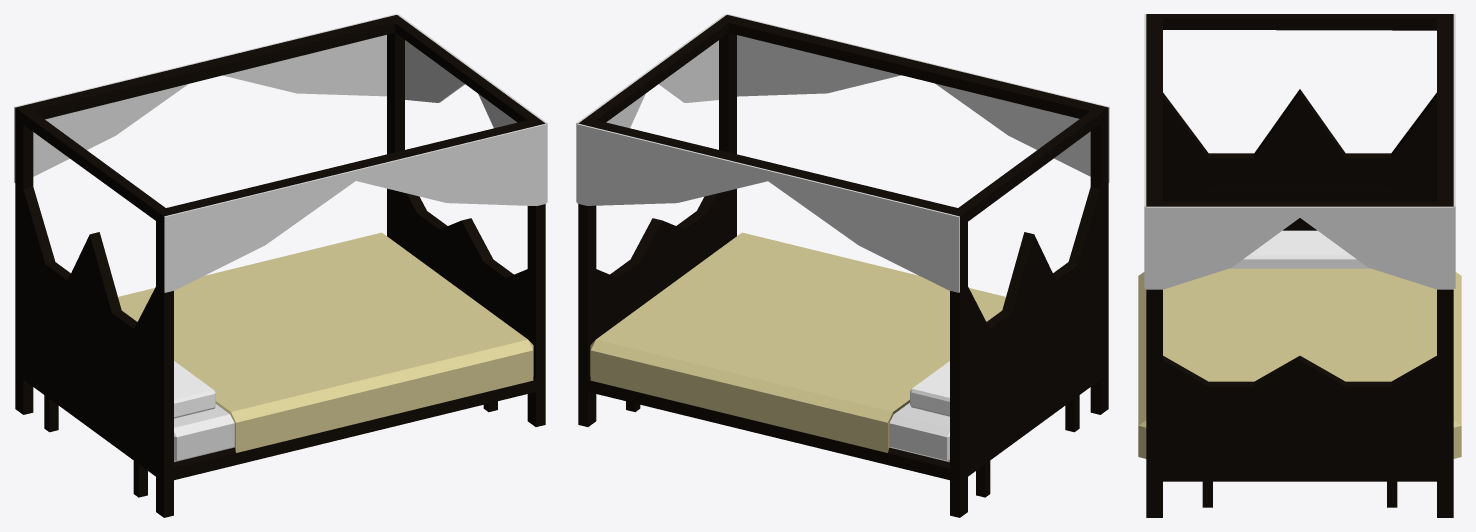
The model's file is Kings_Bed.fbx.
3 renders of one model, left to right at view 1: azimuth 30°, elevation 25°; view 2: azimuth 150°, elevation 25°; view 3: azimuth 270°, elevation 25°, orthographic. The views are drawn at different scales.
Visible parts, largest first — view 1: Frame.001, Matress.001, Matress, Pillow.001, Frame; view 2: Frame.001, Matress.001, Pillow.002, Frame, Matress; view 3: Frame.001, Matress.001, Frame, Pillow, Pillow.002.
Part boxes in pixels (left/top/right/bottom): Frame.001: left=14, top=14, right=547, bottom=517; Matress.001: left=118, top=232, right=533, bottom=462; Matress: left=134, top=252, right=487, bottom=389; Pillow.001: left=174, top=366, right=215, bottom=418; Frame: left=44, top=395, right=497, bottom=497; Frame.001: left=576, top=14, right=1109, bottom=517; Matress.001: left=590, top=232, right=1005, bottom=462; Pillow.002: left=910, top=361, right=949, bottom=416; Frame: left=626, top=395, right=1079, bottom=497; Matress: left=676, top=252, right=812, bottom=282; Frame.001: left=1144, top=14, right=1455, bottom=517; Matress.001: left=1138, top=268, right=1461, bottom=458; Frame: left=1202, top=185, right=1397, bottom=507; Pillow: left=1247, top=230, right=1352, bottom=268; Pillow.002: left=1311, top=230, right=1370, bottom=268.
Bounding box in the file's own units: 213 × 160 × 151.
